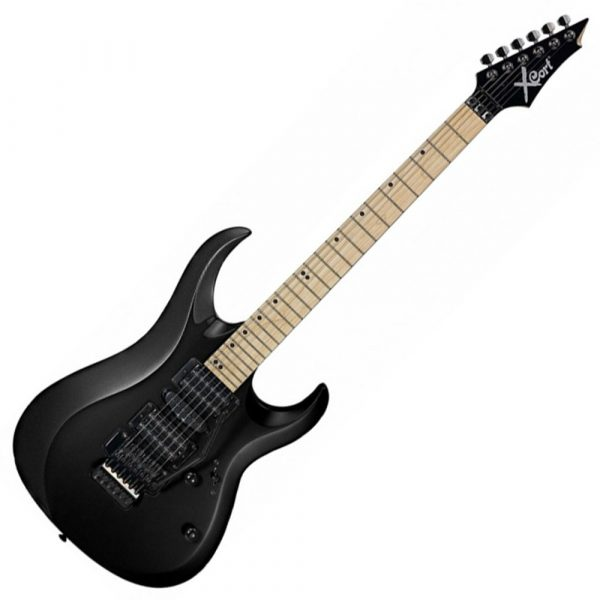ElectricGuitar: (10, 11, 595, 592)
